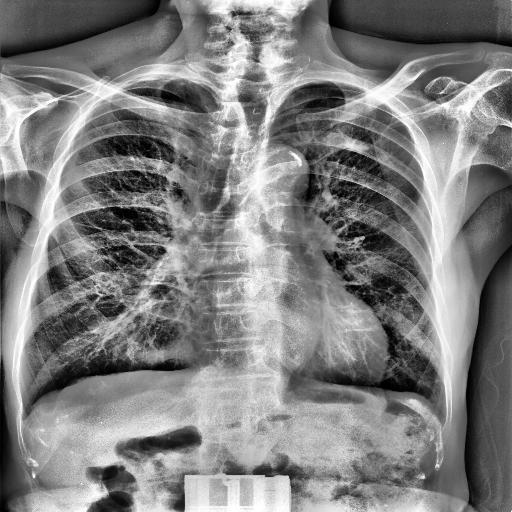0- Aortic enlargement: (248, 142, 312, 202), (248, 146, 308, 210), (252, 144, 306, 192)
11- Pleural thickening: (141, 71, 210, 95), (283, 80, 333, 94)
2- Calcification: (286, 149, 303, 167)
7- Lung Opacity: (343, 136, 369, 154)
